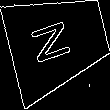N_E: (33, 16, 82, 68)
